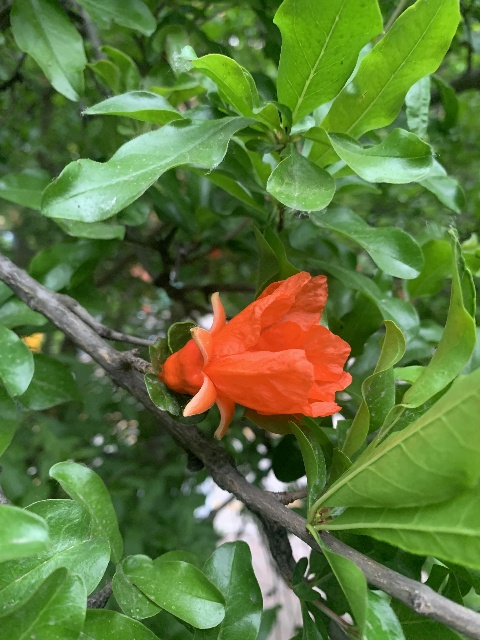flower: (157, 271, 353, 439)
